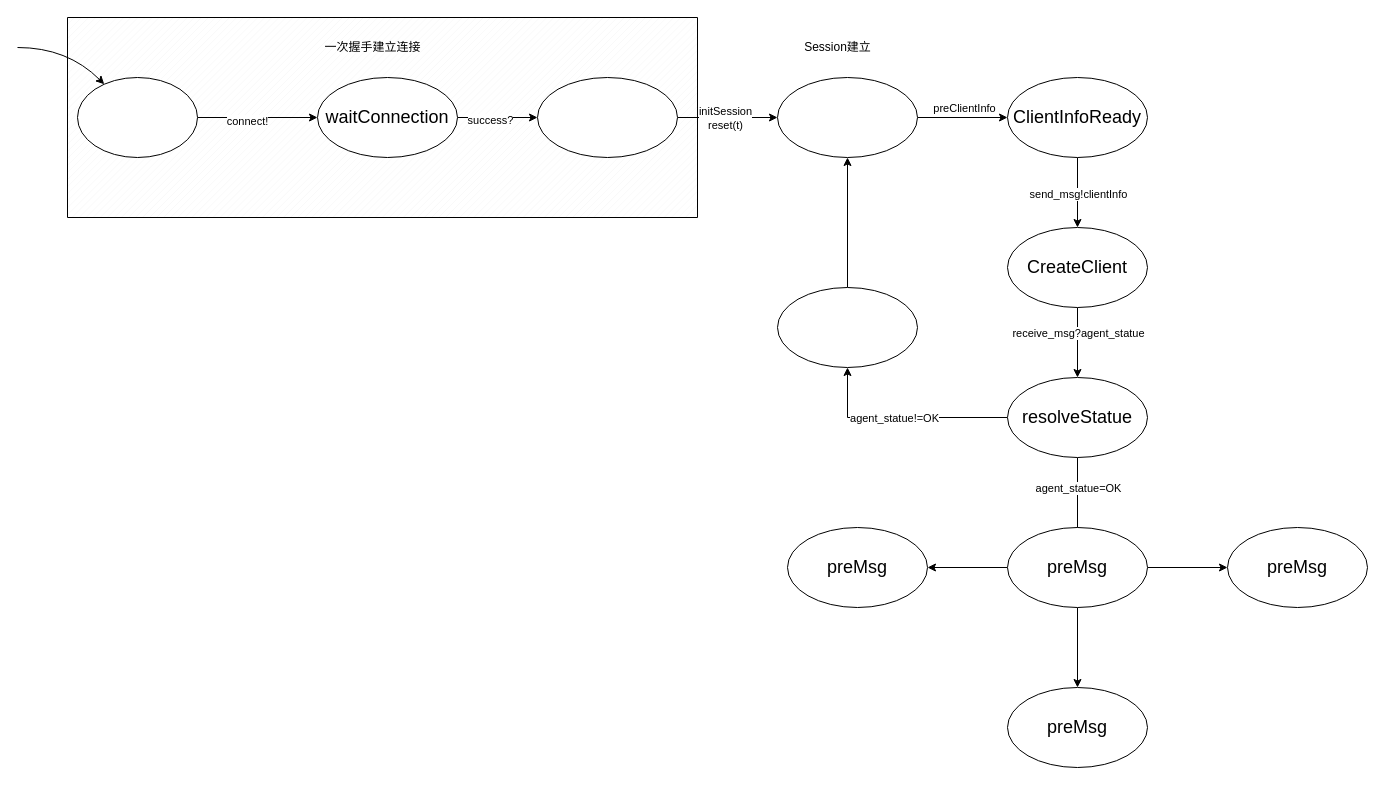
Some shapes in this 1385 by 785 pixel diagram are drawn without their labels. The shapes that lost their labels are listed below. From the top down, each one's centre as x and y in pixels, then its label:
At [137,117]: "init".
At [607,117]: "conneceted".
At [847,117]: "sessionBuilt".
At [847,327]: "wrongState".
